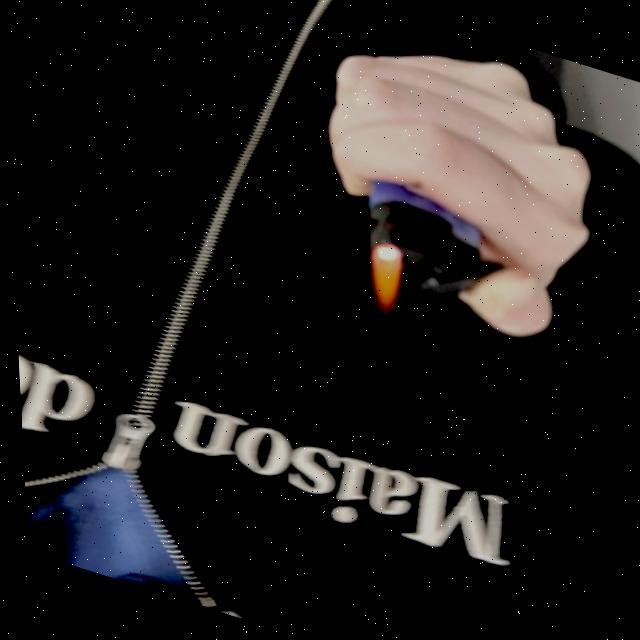Fire: (348, 236, 413, 321)
